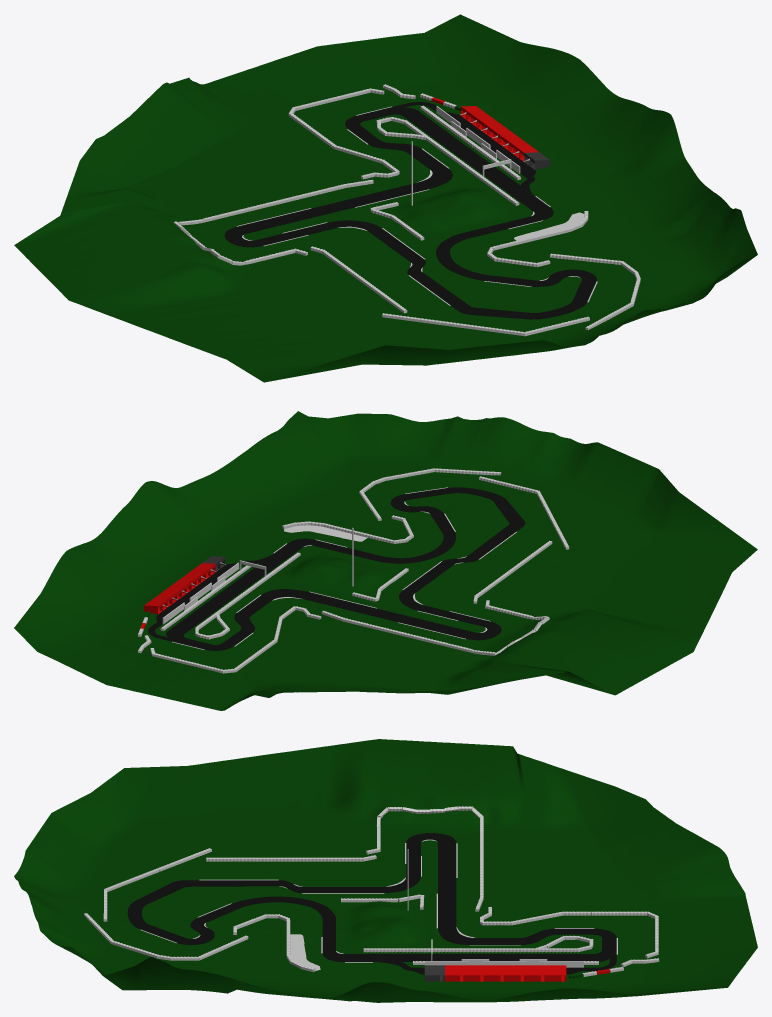
Rendered from Taas+circuit.obj.
The picture shows the model from 3 angles, top to bottom: view 1: azimuth 30°, elevation 25°; view 2: azimuth 150°, elevation 25°; view 3: azimuth 270°, elevation 25°; orthographic projection. The views are drawn at different scales.
Parts seen in each view (by area): view 1: Grass; view 2: Grass; view 3: Grass.
Part boxes in pixels (left/top/right/bottom): Grass: left=14, top=14, right=757, bottom=382; Grass: left=14, top=411, right=757, bottom=710; Grass: left=14, top=739, right=757, bottom=1002.
Bounding box in the file's own units: 292 × 31.46 × 327.
